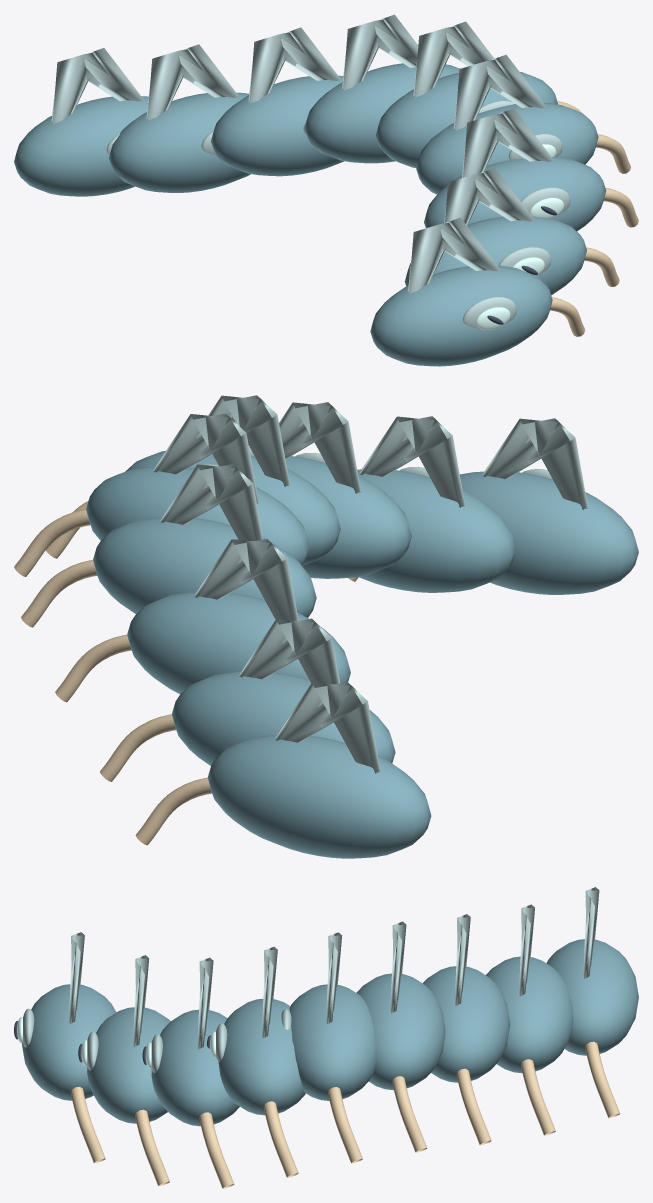
Rendered from bio_ribbon_colony_01_near.glb.
3 renders of one model, top to bottom at view 1: azimuth 30°, elevation 25°; view 2: azimuth 150°, elevation 25°; view 3: azimuth 270°, elevation 25°, orthographic. The views are drawn at different scales.
Visible parts, largest first — view 1: Overlapping folded ribbon, Overlapping folded ribbon.007, Overlapping folded ribbon.008, Overlapping folded ribbon.006, Overlapping folded ribbon.005, Overlapping folded ribbon.003, Overlapping folded ribbon.002, Overlapping folded ribbon.004, Overlapping folded ribbon.001, Raised pleated edge, Raised pleated edge.002, Raised pleated edge.003 (+11 smaller); view 2: Overlapping folded ribbon.008, Overlapping folded ribbon, Overlapping folded ribbon.001, Overlapping folded ribbon.006, Overlapping folded ribbon.005, Overlapping folded ribbon.007, Overlapping folded ribbon.002, Overlapping folded ribbon.004, Raised pleated edge, Raised pleated edge.001, Raised pleated edge.008, Raised pleated edge.006 (+11 smaller); view 3: Overlapping folded ribbon.004, Overlapping folded ribbon.003, Overlapping folded ribbon.005, Overlapping folded ribbon.008, Overlapping folded ribbon.006, Overlapping folded ribbon.007, Overlapping folded ribbon, Overlapping folded ribbon.002, Overlapping folded ribbon.001, Raised pleated edge.002, Raised pleated edge.001, Raised pleated edge (+15 smaller).
Part boxes in pixels (left/top/right/bottom): Overlapping folded ribbon: left=370, top=266, right=552, bottom=366; Overlapping folded ribbon.007: left=109, top=92, right=250, bottom=192; Overlapping folded ribbon.008: left=14, top=96, right=148, bottom=196; Overlapping folded ribbon.006: left=211, top=75, right=344, bottom=176; Overlapping folded ribbon.005: left=304, top=63, right=459, bottom=163; Overlapping folded ribbon.003: left=416, top=103, right=598, bottom=194; Overlapping folded ribbon.002: left=424, top=157, right=606, bottom=231; Overlapping folded ribbon.004: left=376, top=72, right=557, bottom=167; Overlapping folded ribbon.001: left=404, top=216, right=586, bottom=295; Raised pleated edge: left=408, top=217, right=516, bottom=328; Raised pleated edge.002: left=462, top=108, right=570, bottom=215; Raised pleated edge.003: left=453, top=54, right=562, bottom=159; Overlapping folded ribbon.008: left=207, top=735, right=431, bottom=858; Overlapping folded ribbon: left=459, top=471, right=638, bottom=594; Overlapping folded ribbon.001: left=357, top=469, right=515, bottom=592; Overlapping folded ribbon.006: left=127, top=592, right=350, bottom=694; Overlapping folded ribbon.005: left=93, top=517, right=316, bottom=617; Overlapping folded ribbon.007: left=172, top=671, right=395, bottom=765; Overlapping folded ribbon.002: left=285, top=456, right=411, bottom=578; Overlapping folded ribbon.004: left=86, top=467, right=309, bottom=565; Raised pleated edge: left=482, top=418, right=588, bottom=510; Raised pleated edge.001: left=359, top=416, right=465, bottom=507; Raised pleated edge.008: left=275, top=682, right=380, bottom=773; Raised pleated edge.006: left=194, top=539, right=298, bottom=620; Overlapping folded ribbon.004: left=289, top=984, right=375, bottom=1100; Overlapping folded ribbon.003: left=218, top=998, right=305, bottom=1115; Overlapping folded ribbon.005: left=356, top=973, right=445, bottom=1090; Overlapping folded ribbon.008: left=546, top=939, right=638, bottom=1055; Overlapping folded ribbon.006: left=423, top=966, right=510, bottom=1082; Overlapping folded ribbon.007: left=486, top=956, right=573, bottom=1073; Overlapping folded ribbon: left=22, top=984, right=116, bottom=1100; Overlapping folded ribbon.002: left=151, top=1009, right=239, bottom=1126; Overlapping folded ribbon.001: left=87, top=1007, right=170, bottom=1123; Raised pleated edge.002: left=151, top=957, right=213, bottom=1073; Raised pleated edge.001: left=87, top=955, right=149, bottom=1070; Raised pleated edge: left=23, top=932, right=84, bottom=1047.
Bounding box in the file's own units: 2.53 × 1.18 × 3.04.
